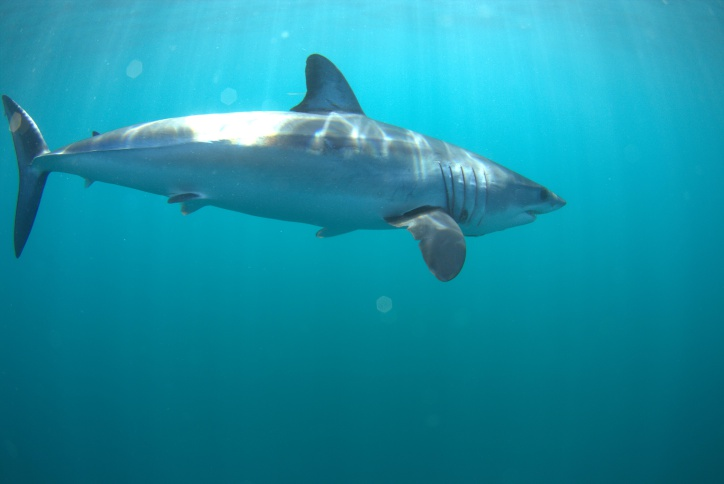Mako: (1, 50, 574, 303)
